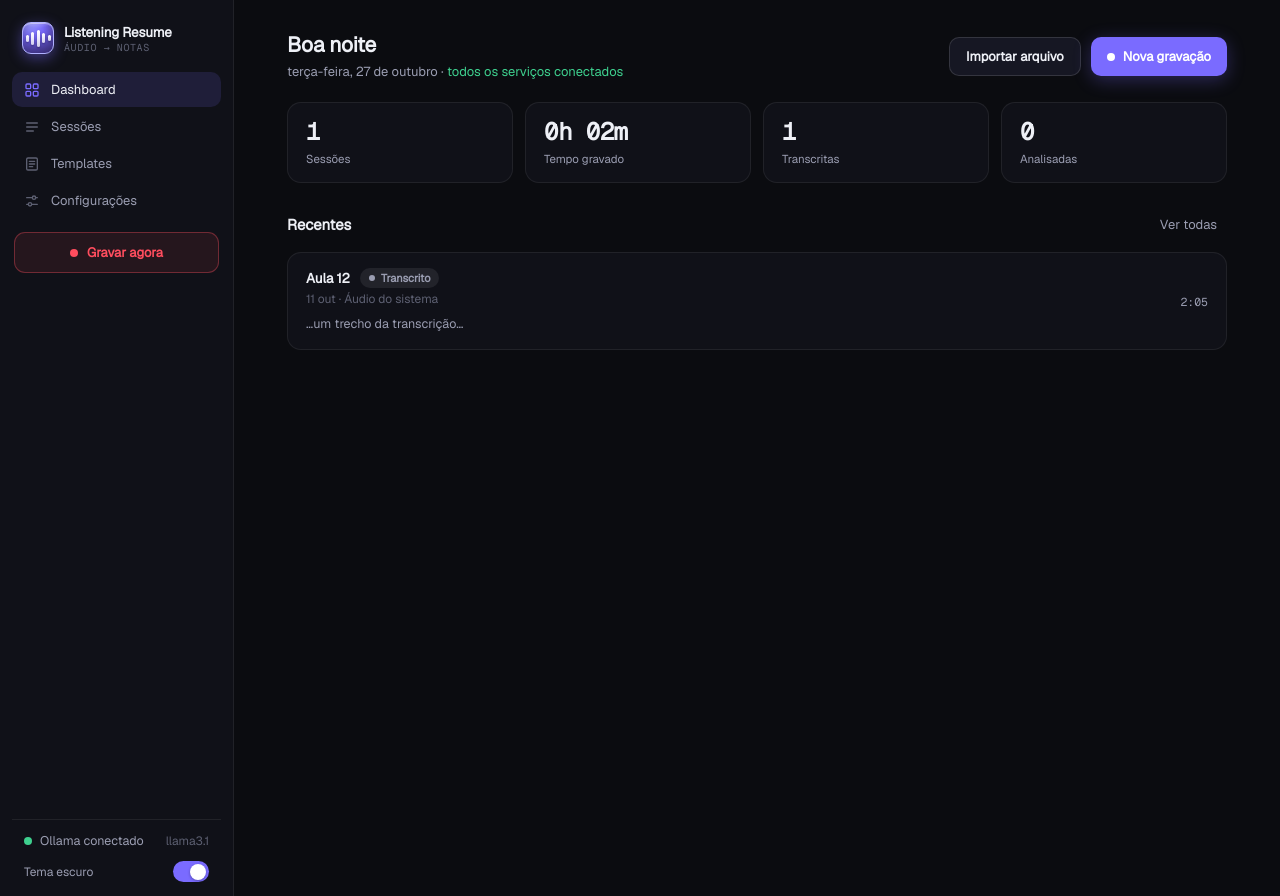
Test: App › navigates with the sidebar
This screenshot has width=1280, height=896.
Check: the heading "Boa noite" is shown, box x1=287 y1=31 x2=376 y2=58
Click the button with test id "nav-sessions" at (116, 126), box x1=12 y1=109 x2=221 y2=144
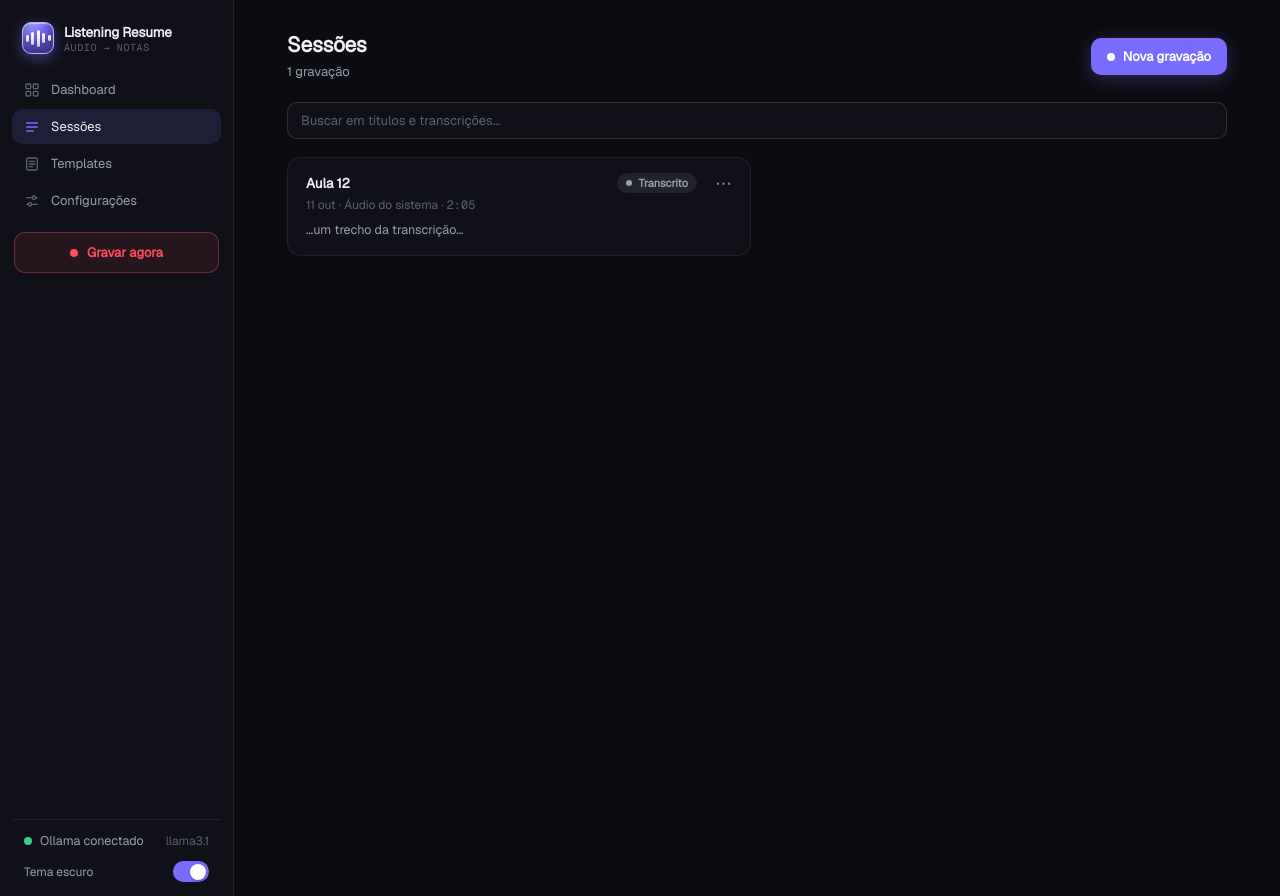
Check: the text "1 gravação" is shown, box x1=287 y1=63 x2=350 y2=80
Click the button with test id "nav-templates" at (116, 164), box x1=12 y1=146 x2=221 y2=181
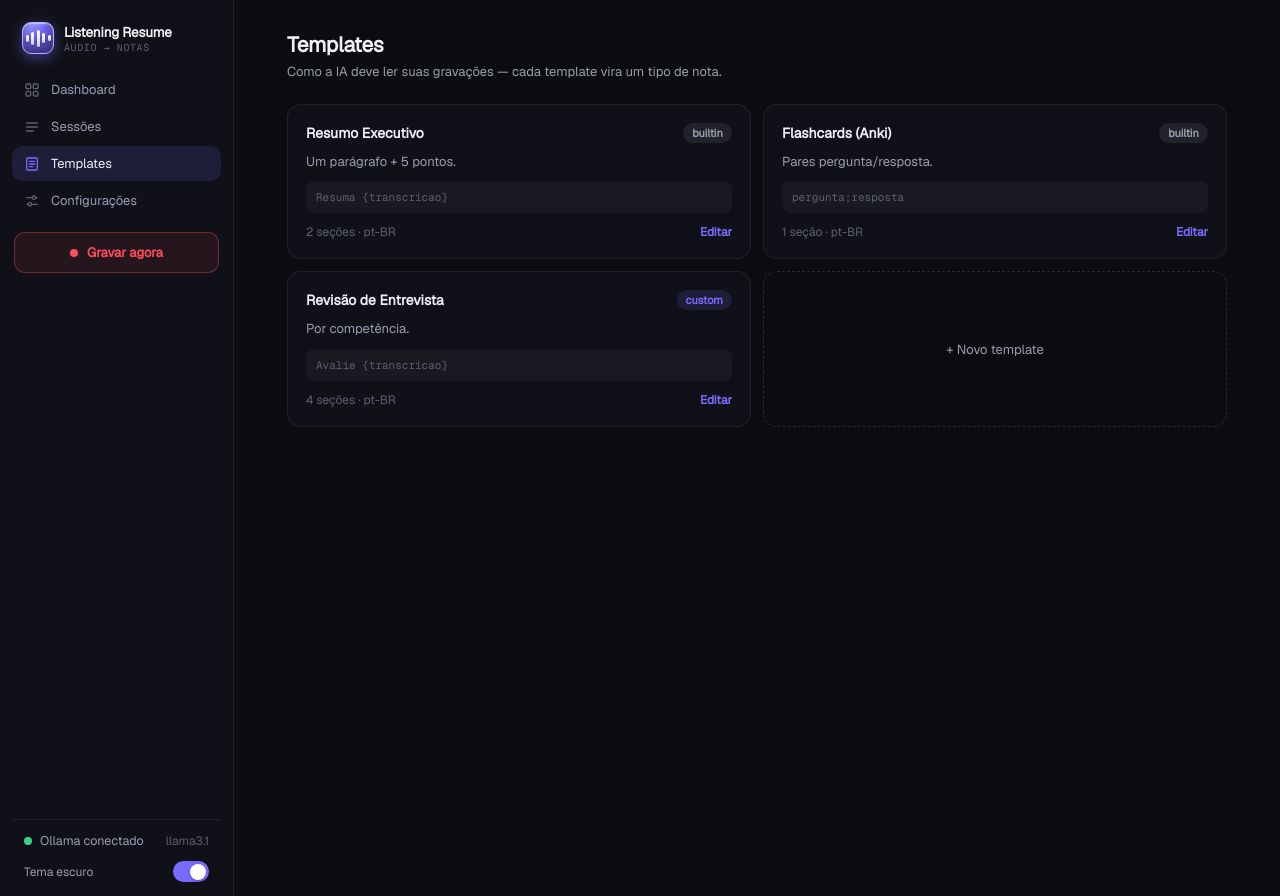
Check: the number of buttons with test id "template-card" is 3, box x1=287 y1=104 x2=751 y2=259; x1=763 y1=104 x2=1227 y2=259; x1=287 y1=271 x2=751 y2=427
Click the button with test id "nav-settings" at (116, 200), box x1=12 y1=183 x2=221 y2=218
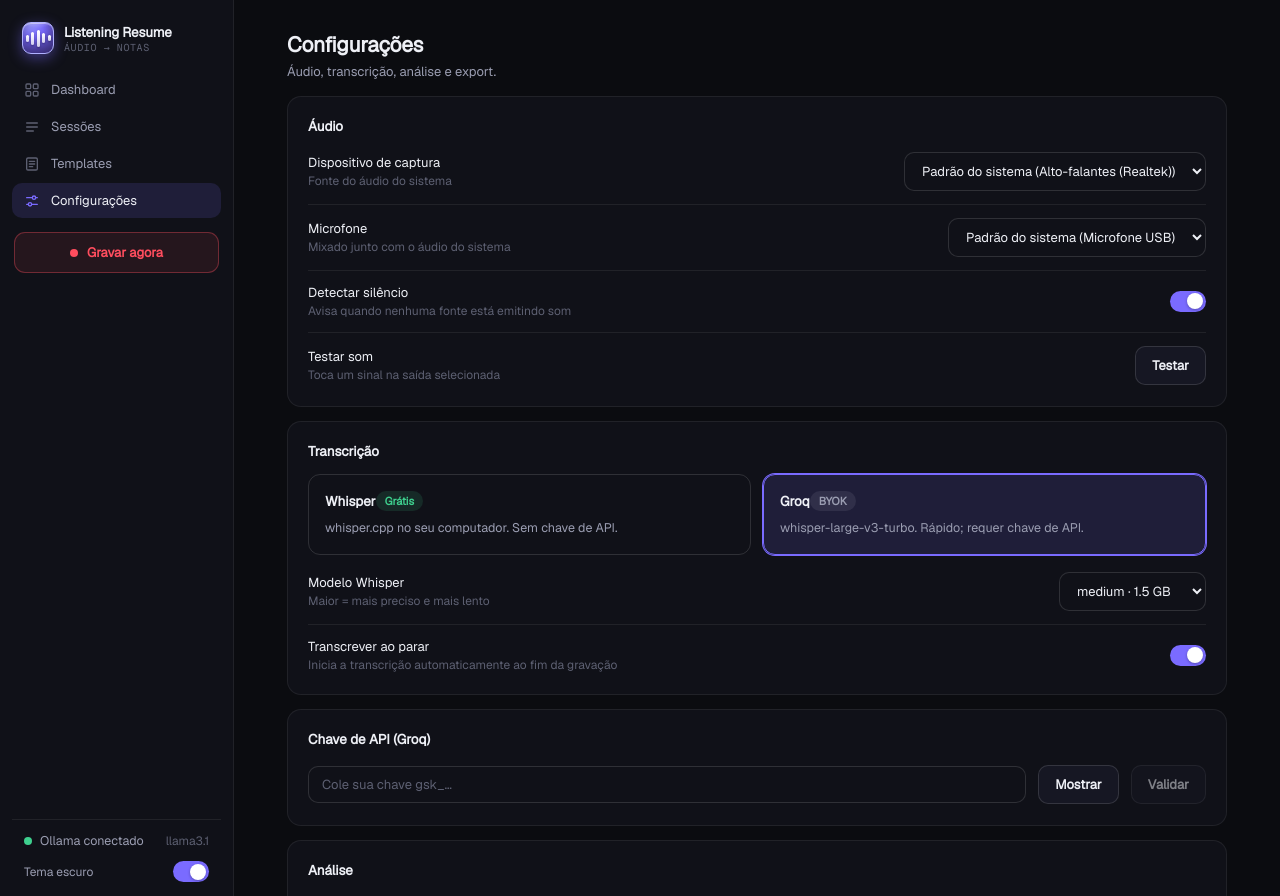
Check: the text "Áudio, transcrição, análise e export." is shown, box x1=287 y1=63 x2=496 y2=80
Click the button with test id "nav-dashboard" at (116, 90), box x1=12 y1=72 x2=221 y2=107
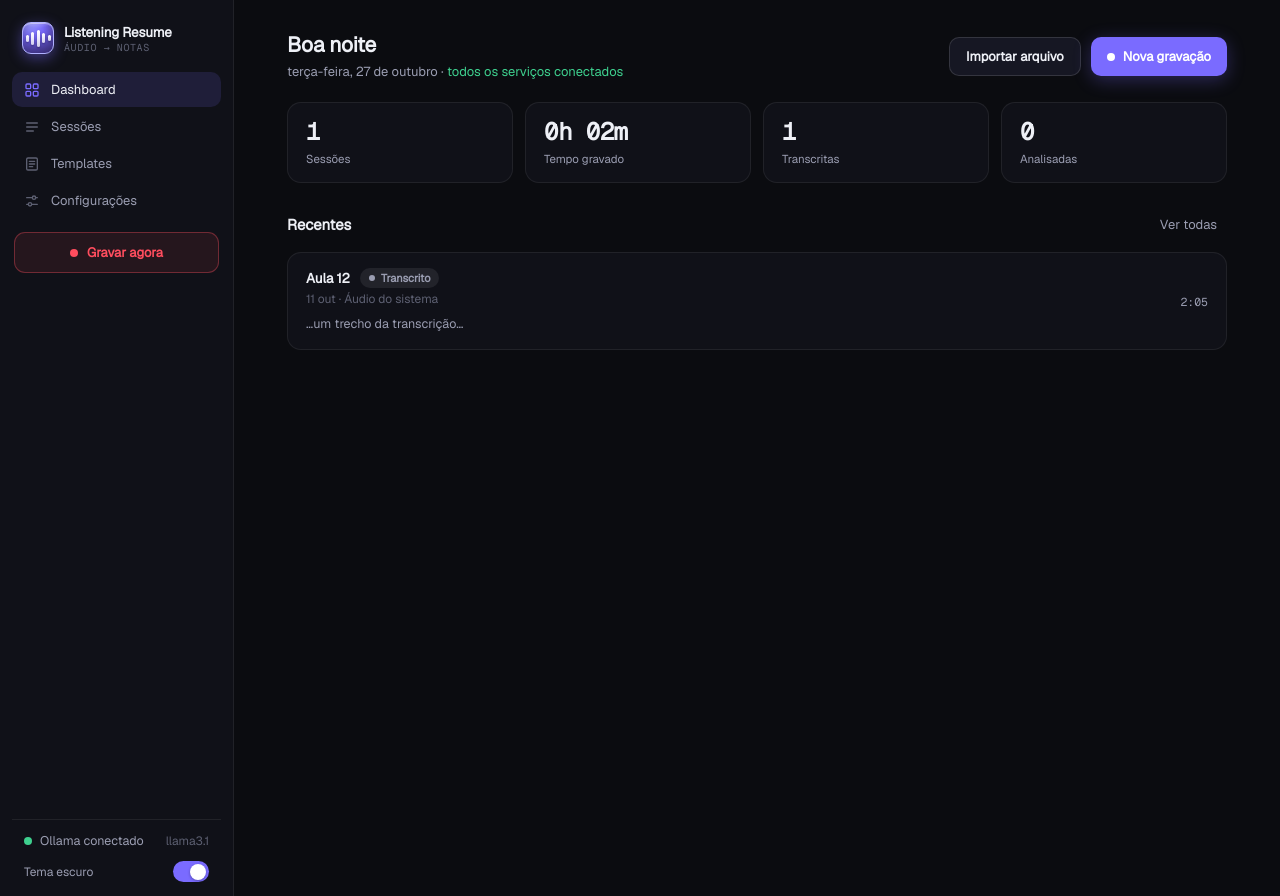
Check: the heading "Boa noite" is shown, box x1=287 y1=31 x2=376 y2=58
